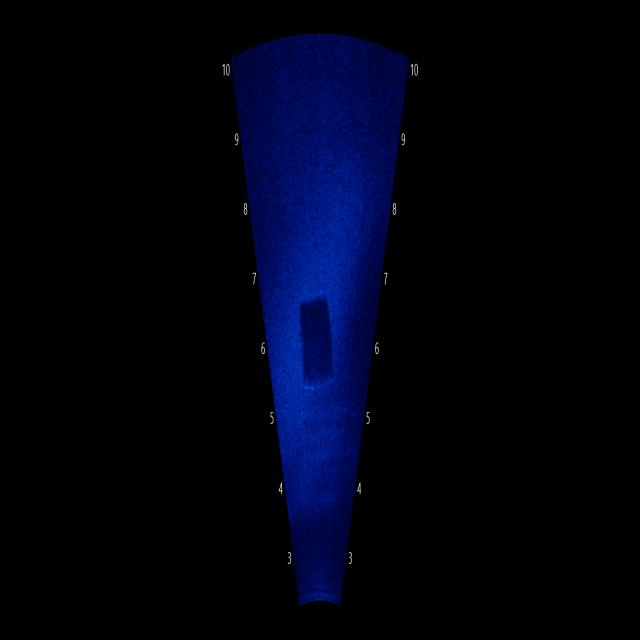square: (288, 270, 346, 418)
